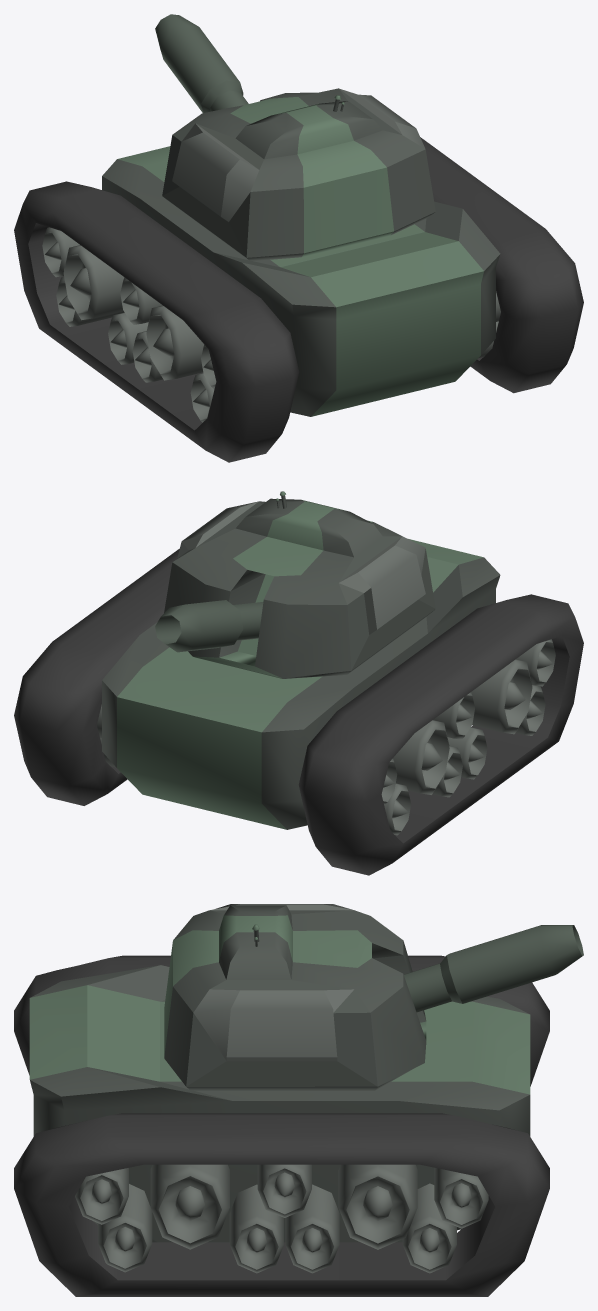
File: tank!.fbx
3 views of the same model, one above another, from view 1: azimuth 30°, elevation 25°; view 2: azimuth 150°, elevation 25°; view 3: azimuth 270°, elevation 25° (orthographic). The views are drawn at different scales.
Parts seen in each view (by area): view 1: pCube1, pCylinder5, pCube3, pCube4, pCylinder4, pasted__pCylinder1, pasted__pasted__pCylinder1, pasted__pasted__pCylinder6, pasted__pasted__pCylinder8, pCylinder2, pasted__pasted__pCylinder7, pasted__pCylinder7 (+1 smaller); view 2: pCube1, pCube3, pCylinder5, pCube4, pCylinder4, pasted__pasted__pCylinder1, pasted__pCylinder1, pasted__pasted__pCylinder7, pasted__pCylinder6, pasted__pasted__pCylinder8, pasted__pCylinder8, pasted__pasted__pCylinder6 (+1 smaller); view 3: pCube4, pCylinder5, pCube1, pCylinder4, pasted__pCylinder9, pasted__pasted__pCylinder5, pCube3, pasted__pasted__pCylinder3, pasted__pasted__pCylinder4, pasted__pCylinder2, pasted__pCylinder4, pCylinder3 (+2 smaller).
Boxes of the visible parts, x1=… form: pCube1: x1=102, y1=146, x2=500, y2=416; pCylinder5: x1=162, y1=88, x2=435, y2=260; pCube3: x1=14, y1=181, x2=299, y2=462; pCube4: x1=420, y1=137, x2=583, y2=393; pCylinder4: x1=155, y1=14, x2=248, y2=112; pasted__pCylinder1: x1=63, y1=245, x2=124, y2=320; pasted__pasted__pCylinder1: x1=146, y1=305, x2=204, y2=380; pasted__pasted__pCylinder6: x1=108, y1=312, x2=148, y2=364; pasted__pasted__pCylinder8: x1=120, y1=277, x2=162, y2=324; pCylinder2: x1=42, y1=227, x2=79, y2=277; pasted__pasted__pCylinder7: x1=132, y1=331, x2=162, y2=382; pasted__pCylinder7: x1=190, y1=373, x2=214, y2=422; pCube1: x1=102, y1=539, x2=500, y2=829; pCube3: x1=298, y1=594, x2=583, y2=875; pCylinder5: x1=164, y1=491, x2=435, y2=678; pCube4: x1=14, y1=549, x2=179, y2=805; pCylinder4: x1=155, y1=600, x2=263, y2=652; pasted__pasted__pCylinder1: x1=471, y1=659, x2=532, y2=734; pasted__pCylinder1: x1=393, y1=720, x2=449, y2=794; pasted__pasted__pCylinder7: x1=447, y1=727, x2=487, y2=779; pasted__pCylinder6: x1=516, y1=639, x2=555, y2=686; pasted__pasted__pCylinder8: x1=433, y1=692, x2=474, y2=739; pasted__pCylinder8: x1=384, y1=783, x2=410, y2=835; pasted__pasted__pCylinder6: x1=432, y1=746, x2=462, y2=797; pCube4: x1=14, y1=1113, x2=549, y2=1296; pCylinder5: x1=164, y1=904, x2=426, y2=1090; pCube1: x1=29, y1=965, x2=530, y2=1242; pCylinder4: x1=404, y1=925, x2=583, y2=1012; pasted__pCylinder9: x1=338, y1=1164, x2=417, y2=1249; pasted__pasted__pCylinder5: x1=150, y1=1164, x2=229, y2=1249; pCube3: x1=14, y1=955, x2=549, y2=1086; pasted__pasted__pCylinder3: x1=229, y1=1184, x2=283, y2=1273; pasted__pasted__pCylinder4: x1=285, y1=1184, x2=339, y2=1273; pasted__pCylinder2: x1=98, y1=1184, x2=152, y2=1272; pasted__pCylinder4: x1=402, y1=1183, x2=456, y2=1273; pCylinder3: x1=434, y1=1167, x2=488, y2=1228.
Size of the model in its own units: 4.81 by 3.24 by 5.62.
